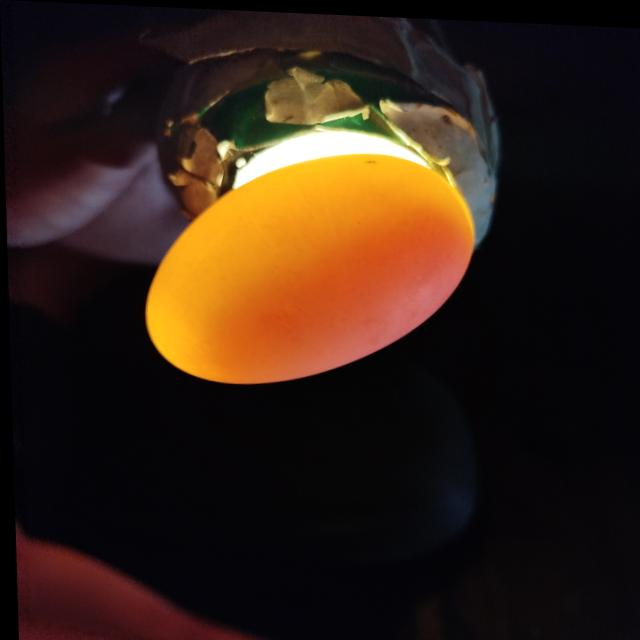Gema Quebrada: (190, 201, 473, 382)
